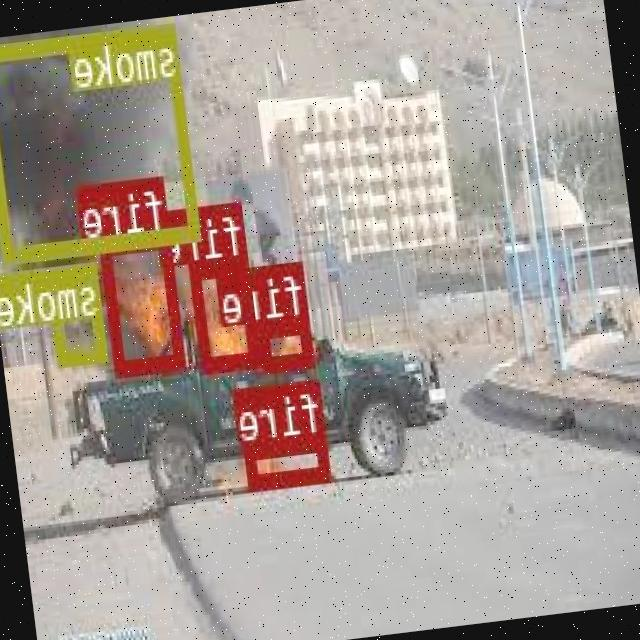fire: (101, 230, 188, 376), (192, 256, 262, 370), (246, 433, 332, 488), (259, 313, 317, 369)
smoke: (0, 21, 202, 260), (47, 259, 109, 362)
